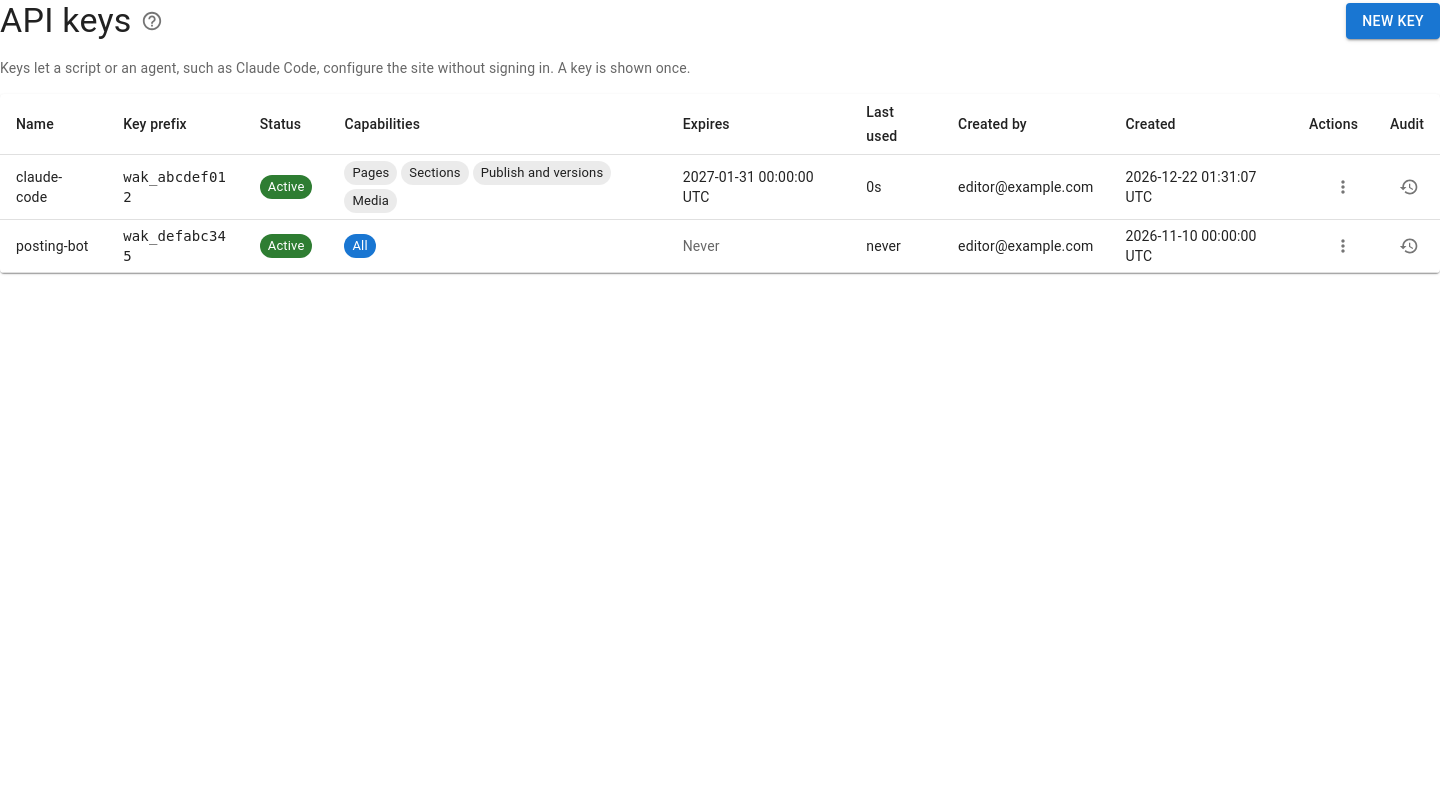
Scenario: ApiKeysList › mints a key and reveals it exactly once through KeyRevealDialog
Click the button "New key": [1393, 21] box [1346,3,1439,39]
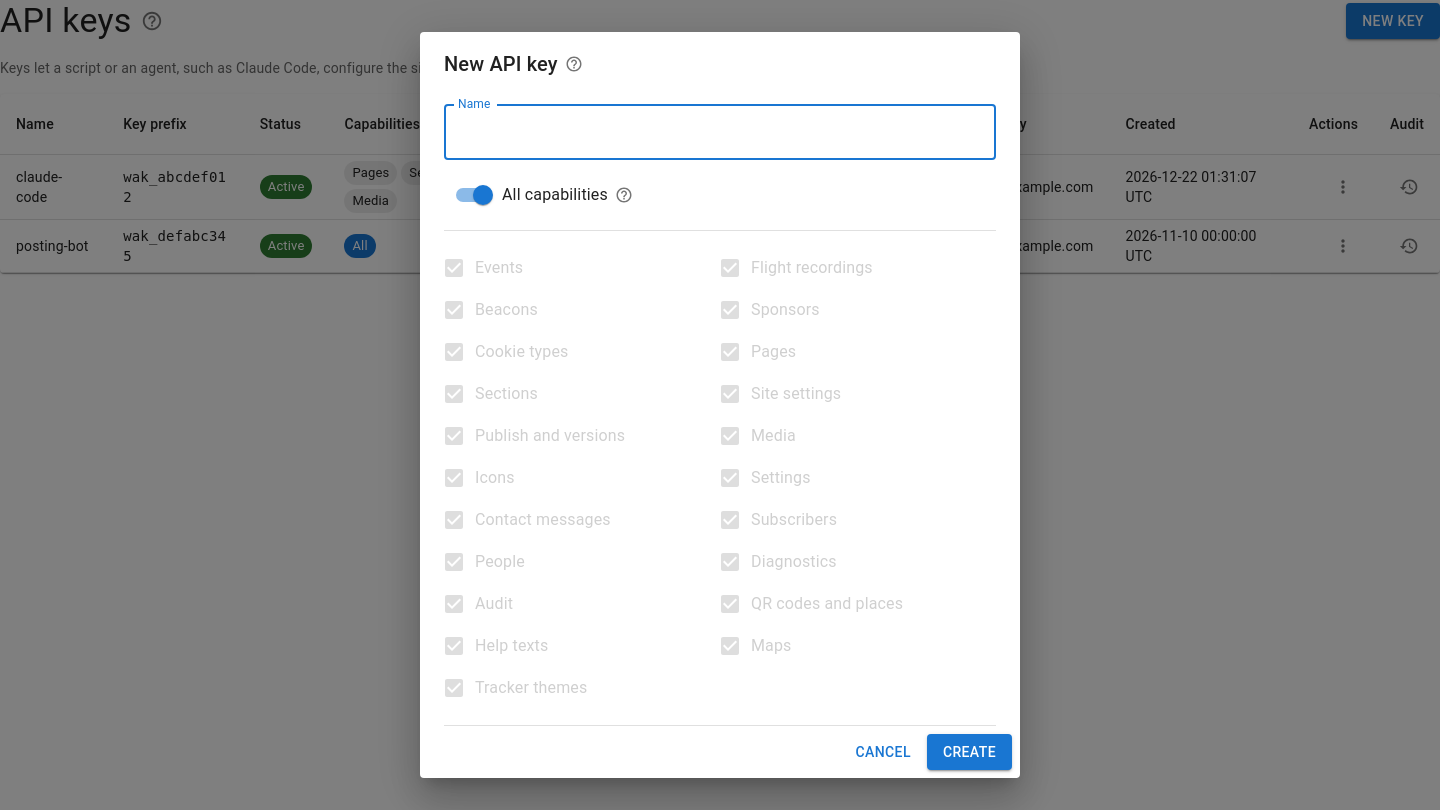
In the field labelled "Name": [720, 132] box [444,104,996,160], type "new-key"
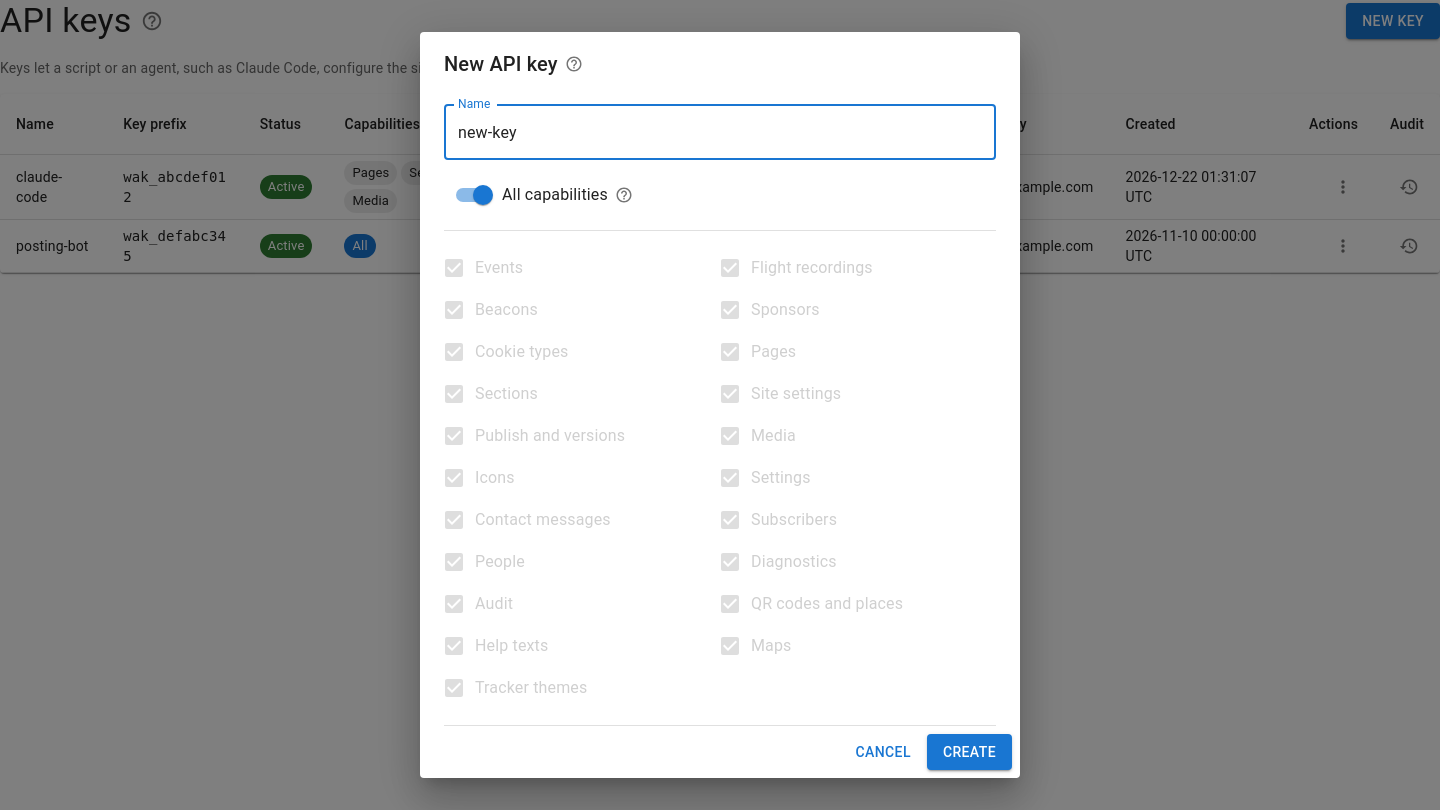
Click the button "Create": [969, 752] box [927,734,1012,770]
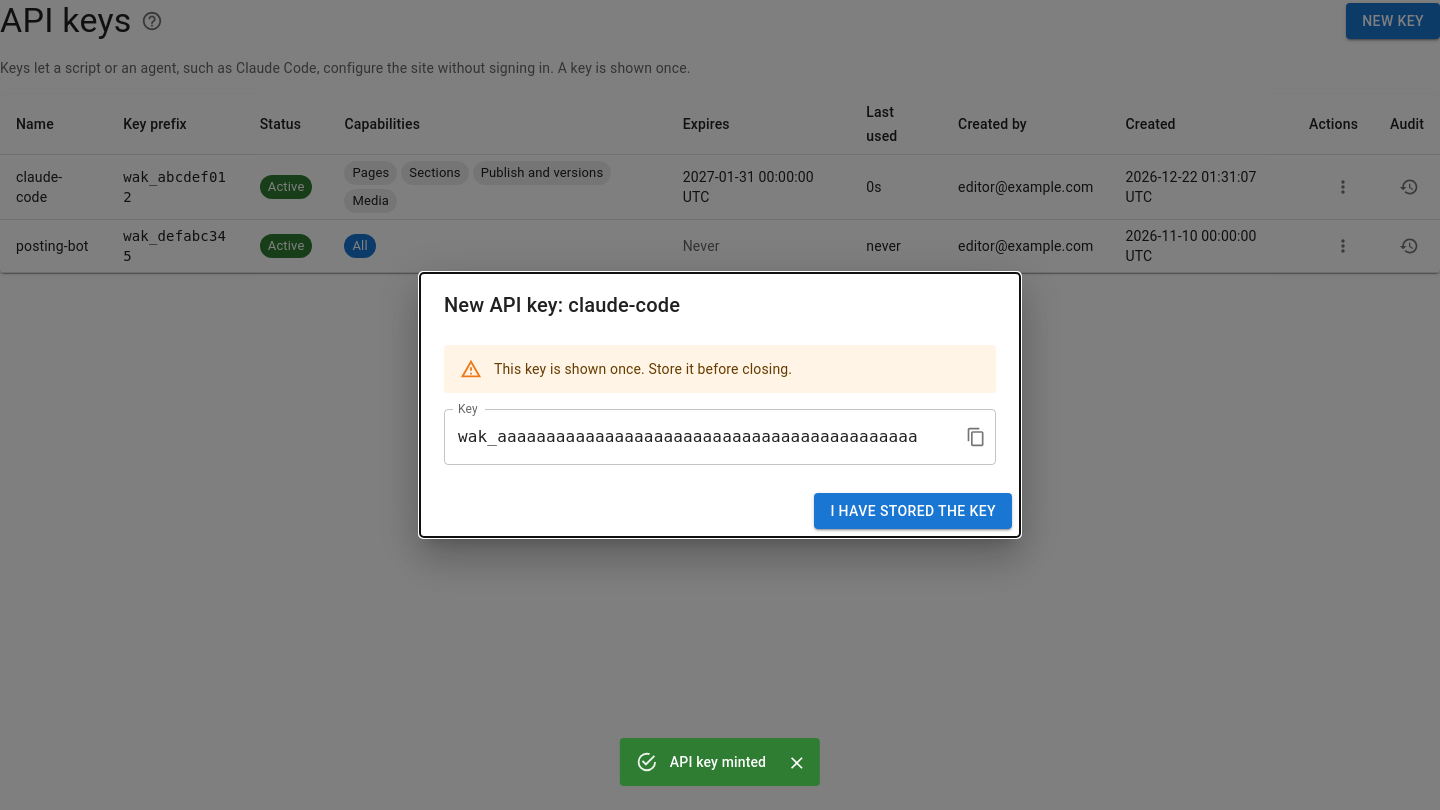
Expected: the button "I have stored the key" is shown, [814,493,1012,529]
